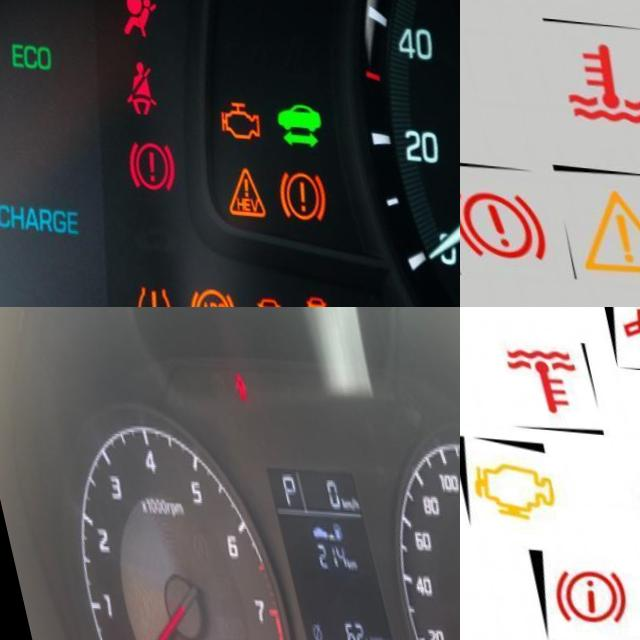Seat Belt: (103, 54, 146, 111)
